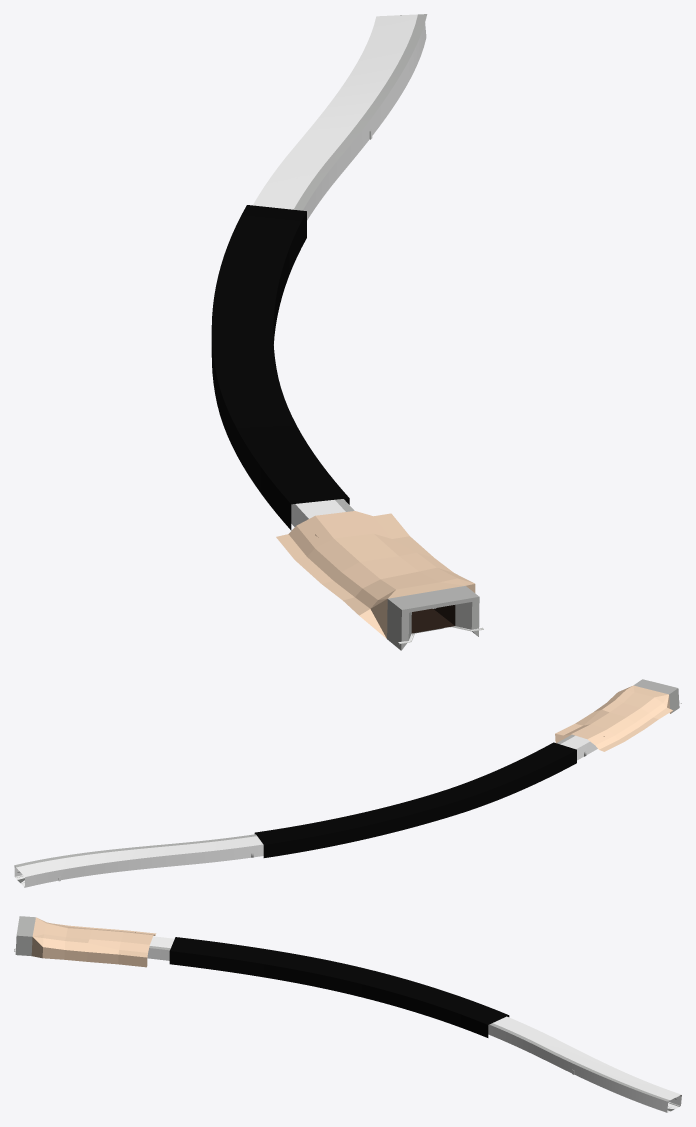
File: tunnel_nw1a.dae
3 renders of one model, top to bottom at view 1: azimuth 30°, elevation 25°; view 2: azimuth 150°, elevation 25°; view 3: azimuth 270°, elevation 25°, orthographic. The views are drawn at different scales.
Parts seen in each view (by area): view 1: tunnel_NW1a_a5000, tunnel_NW1a_a1000, tunnel_NW1a_a3000; view 2: tunnel_NW1a_a5000, tunnel_NW1a_a3000, tunnel_NW1a_a1000; view 3: tunnel_NW1a_a5000, tunnel_NW1a_a3000, tunnel_NW1a_a1000.
Boxes of the visible parts, bbox=[...] form: tunnel_NW1a_a5000: bbox=[211, 15, 483, 642]; tunnel_NW1a_a1000: bbox=[276, 511, 479, 650]; tunnel_NW1a_a3000: bbox=[253, 14, 483, 644]; tunnel_NW1a_a5000: bbox=[14, 703, 681, 886]; tunnel_NW1a_a3000: bbox=[14, 703, 681, 887]; tunnel_NW1a_a1000: bbox=[555, 679, 679, 751]; tunnel_NW1a_a5000: bbox=[14, 937, 681, 1112]; tunnel_NW1a_a3000: bbox=[14, 936, 681, 1112]; tunnel_NW1a_a1000: bbox=[15, 916, 156, 967].
Bounding box in the file's own units: 193 × 324 × 18.43.
